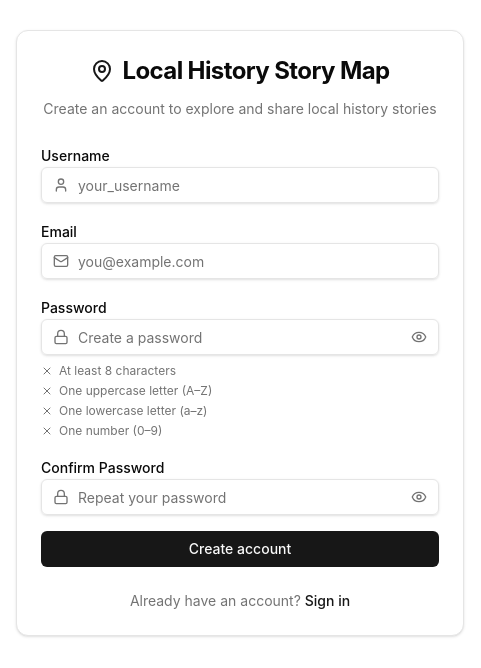
Test: RegisterPage › shows error when email is empty
Step 1. Type "testuser" into the field labelled "Username" → coordinates (240, 185), box x1=41 y1=167 x2=439 y2=203
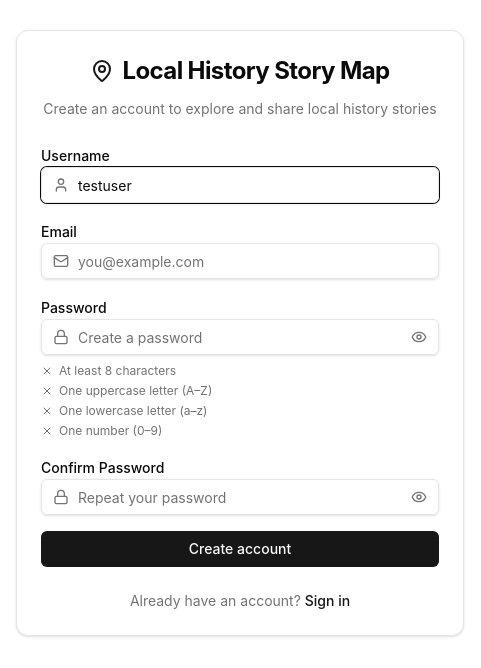
Step 2. Type "Password1" into the password field labelled "Password" → coordinates (240, 337), box x1=41 y1=319 x2=439 y2=355
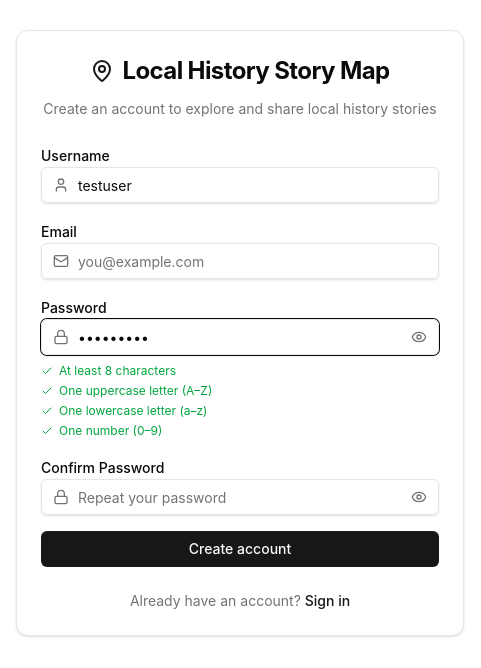
Step 3. Type "Password1" into the password field labelled "Confirm Password" → coordinates (240, 497), box x1=41 y1=479 x2=439 y2=515
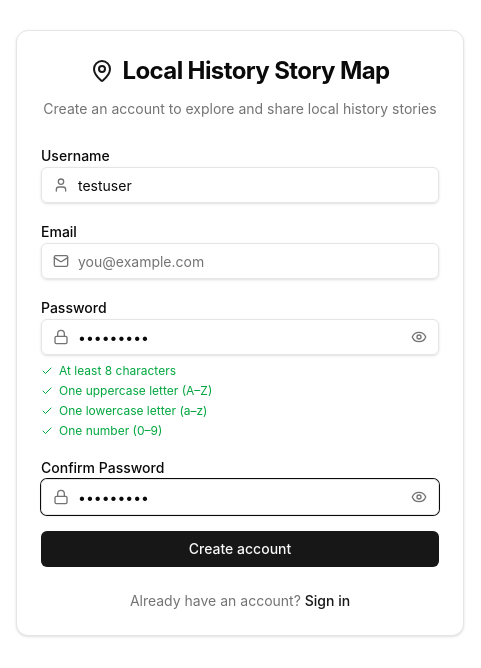
Step 4. Click the button "Create account" → coordinates (240, 549), box x1=41 y1=531 x2=439 y2=567
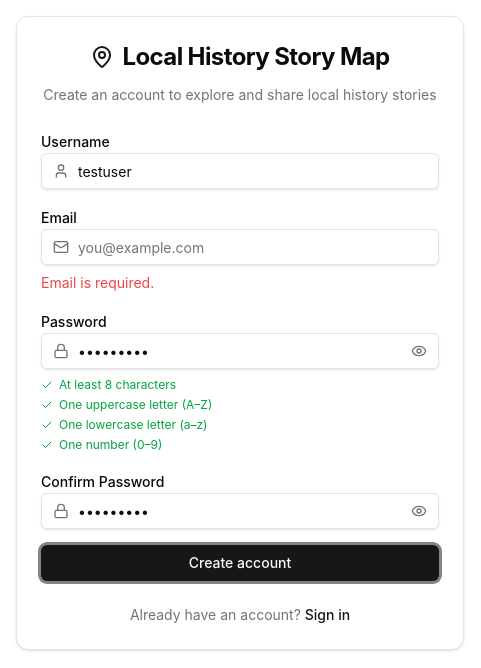
Result: the text "Email is required." is shown at x1=41 y1=274 x2=154 y2=291
